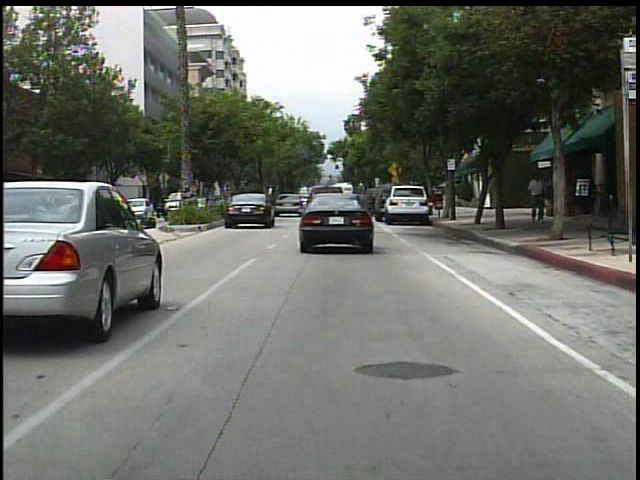person: (525, 172, 550, 227)
